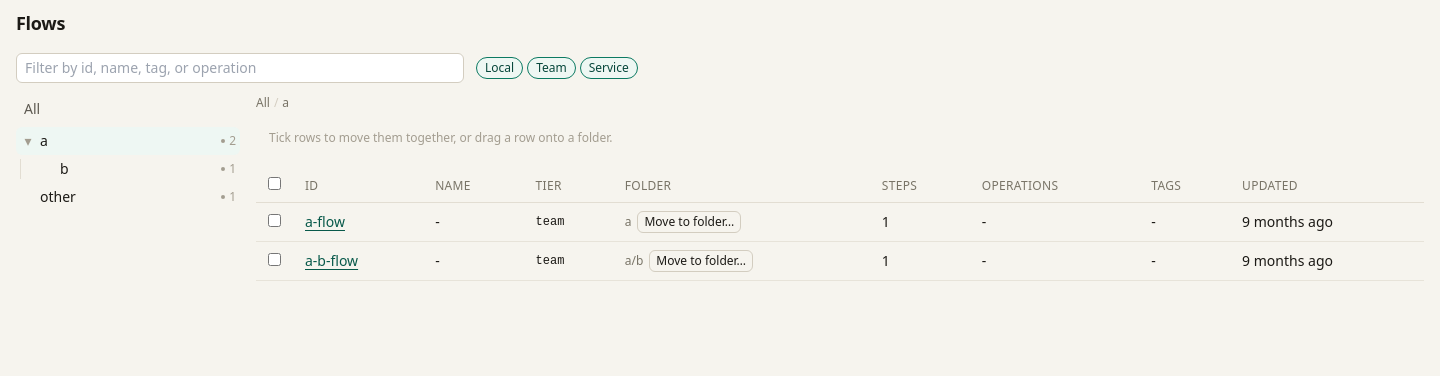
folder sidebar (via FlowsPage) › the breadcrumb "All" link clears the folder filter
This screenshot has width=1440, height=376.
Expected: the link "a-flow" is shown, [305,212,345,231]
Expected: the text "root-flow" is not shown
Click the 2nd button "All" at (263, 103), box [256,95,270,111]
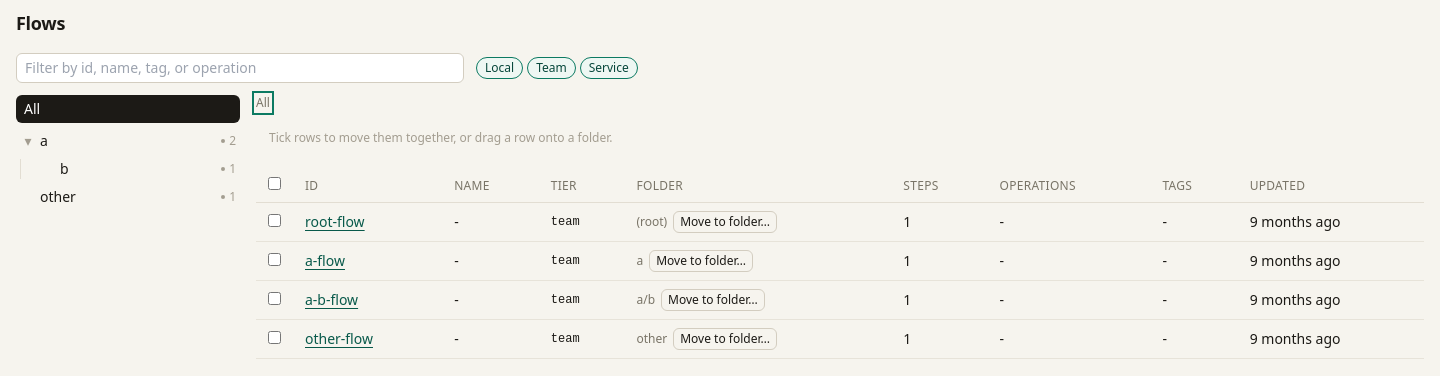
Expected: the link "root-flow" is shown, [305,212,365,231]
Expected: the link "other-flow" is shown, [305,329,373,348]
